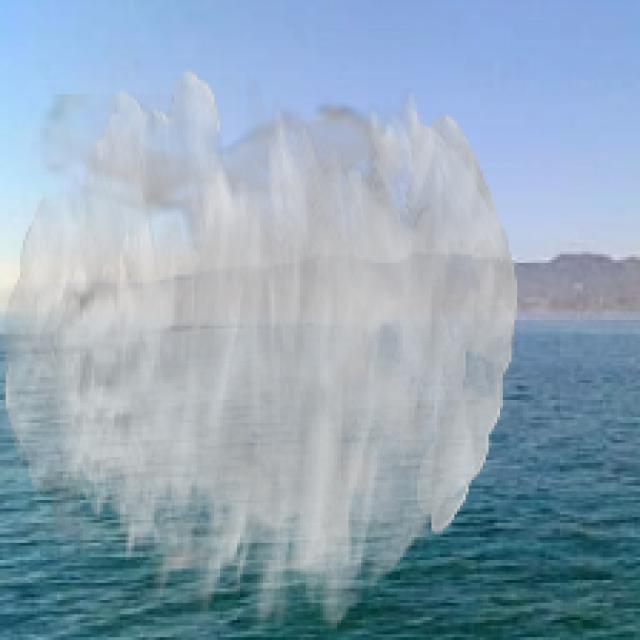smoke: (3, 69, 517, 637)
